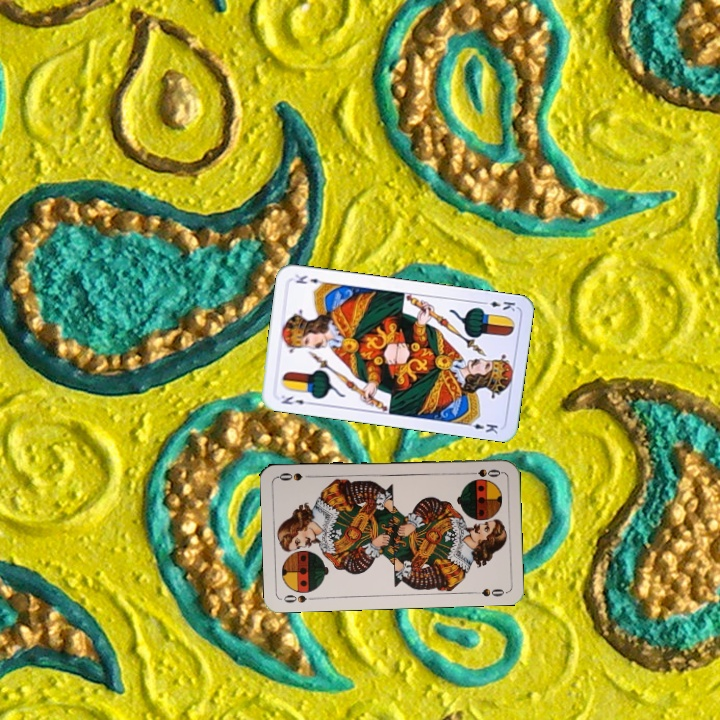EK: (477, 297, 518, 314), (278, 391, 315, 407)
SO: (463, 465, 504, 479), (279, 591, 319, 605)
